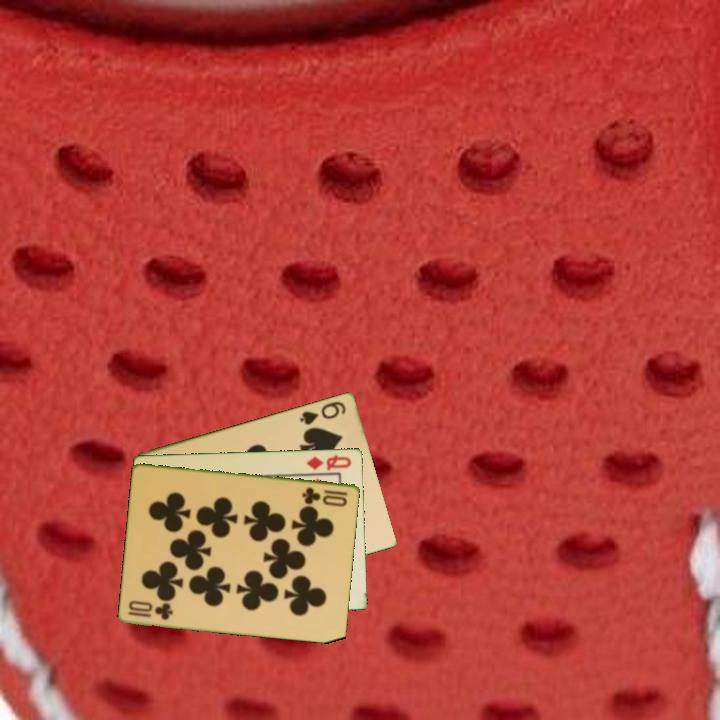10c: (299, 483, 351, 509), (125, 601, 176, 623)
6s: (296, 397, 349, 427)
Qd: (303, 451, 354, 473)
